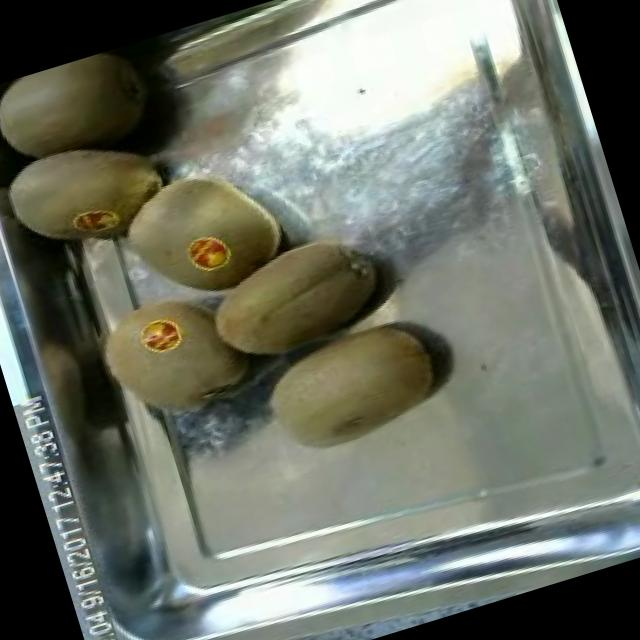Fruit: (181, 207, 407, 390), (240, 293, 461, 473), (94, 130, 302, 312), (0, 125, 172, 268), (0, 42, 158, 173)
